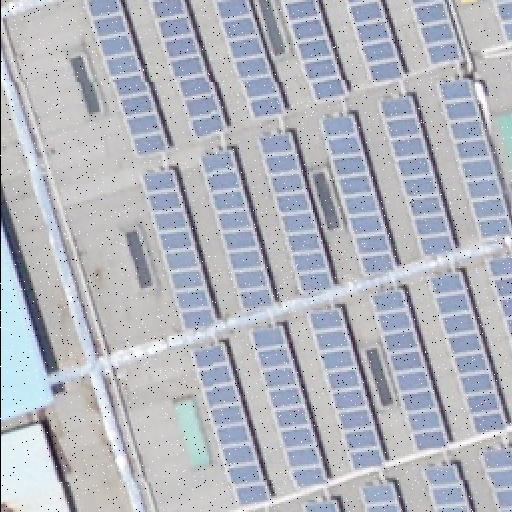solar-panel: (424, 270, 508, 438), (86, 1, 174, 159), (366, 291, 450, 453), (190, 340, 270, 508), (198, 149, 278, 315), (304, 308, 384, 472), (140, 171, 220, 333), (249, 325, 327, 491), (256, 128, 332, 296), (317, 115, 395, 277), (377, 95, 455, 257), (436, 81, 512, 239), (147, 0, 229, 140), (211, 0, 285, 122), (283, 0, 349, 104), (342, 0, 406, 88), (409, 0, 463, 68), (481, 255, 511, 353), (419, 464, 469, 512), (476, 448, 512, 512), (357, 481, 403, 511), (492, 0, 512, 44), (299, 497, 341, 511), (508, 61, 512, 75)
